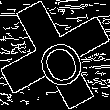O_NW: (24, 22, 86, 88)
